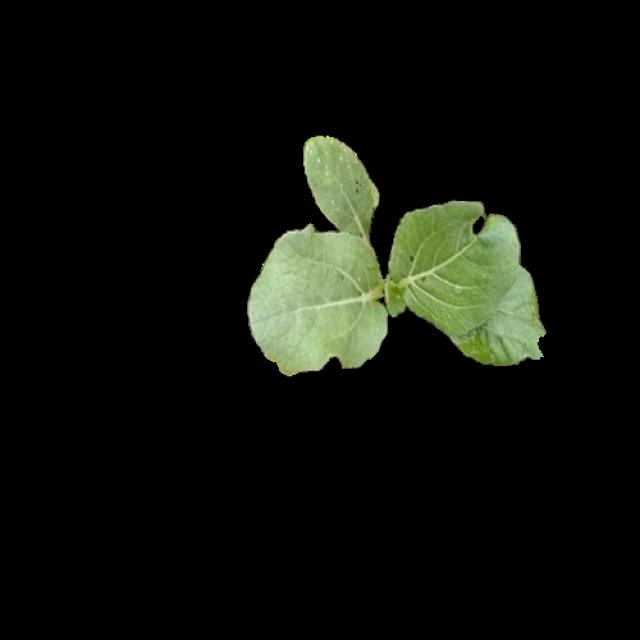not-mature: (247, 136, 545, 389)
unhealthy: (392, 200, 521, 329), (304, 138, 376, 230)
